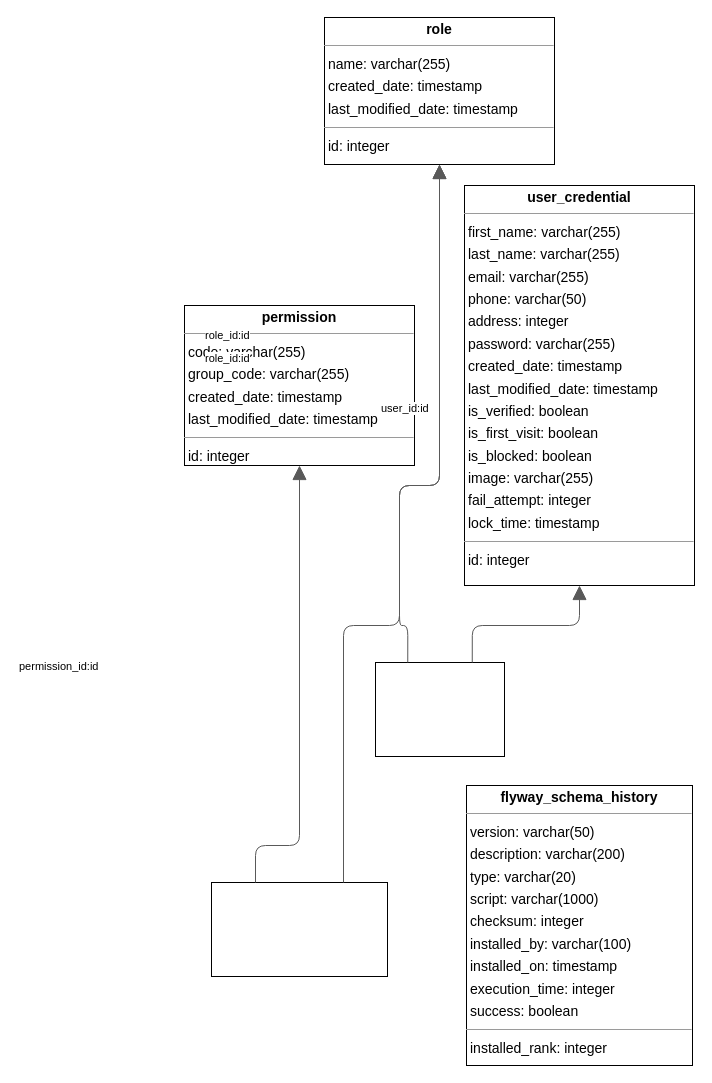
This 712x1083 diagram has some shape labels left out. Each missing label, with the centre of its shape:
role_permission role_id: integer permission_id: integer: pixel 299 929
user_role user_id: integer role_id: integer: pixel 439 709
